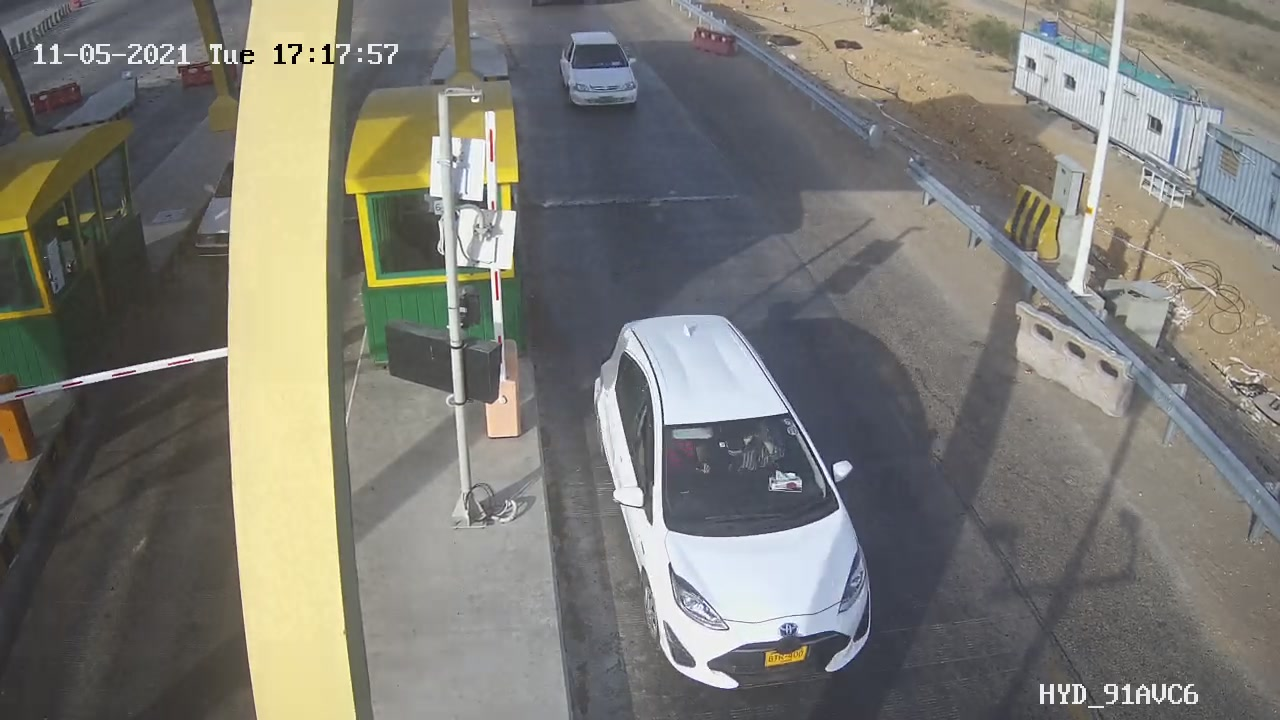F1: (547, 17, 652, 122)
